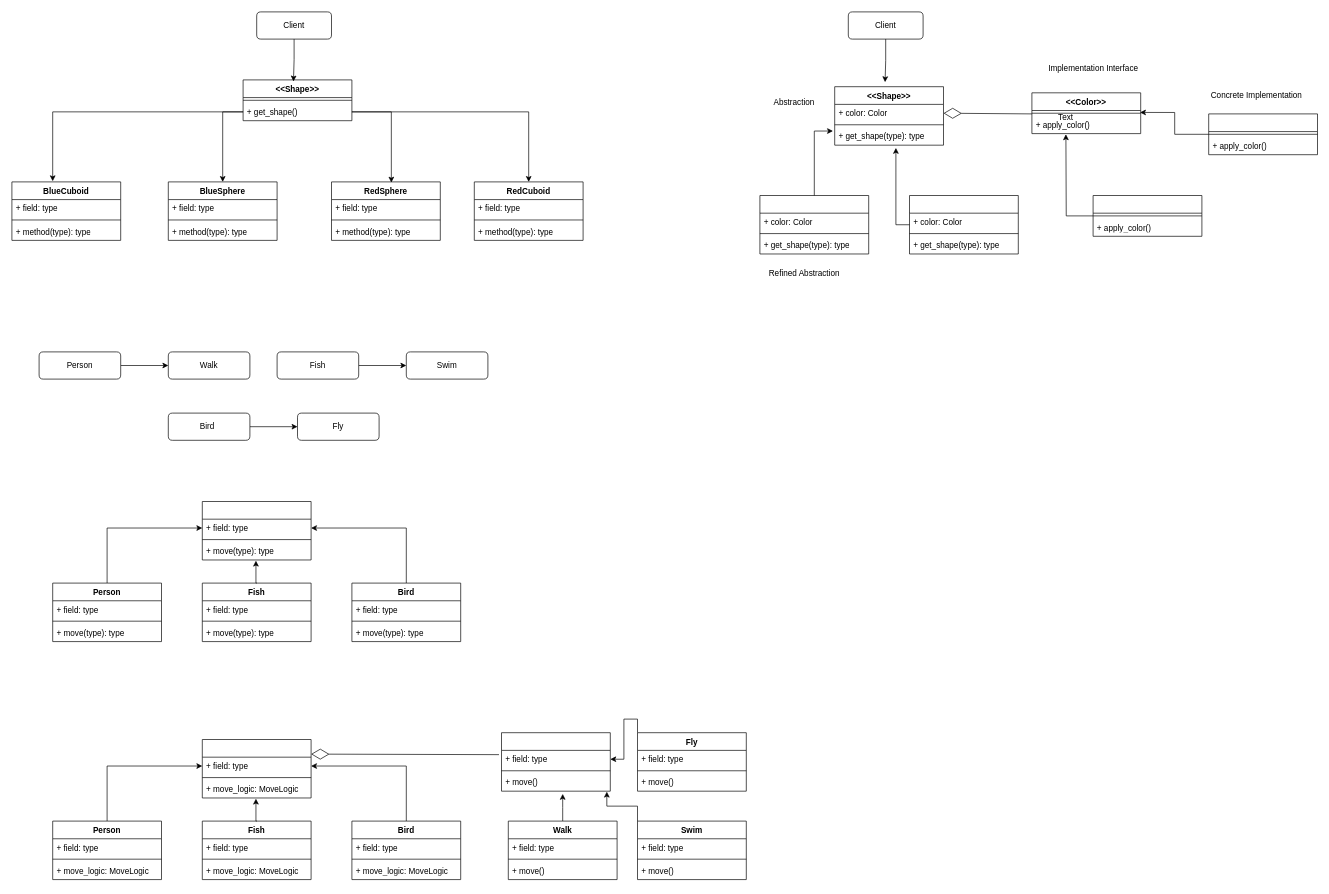
This 1329x894 diagram has some shape labels left out. The shapes that lost their labels are listed below. From the top down, each one's box as (x1, y1, x2, y2) in pixels, then its label:
(1208, 113, 1318, 155): Blue
(759, 195, 869, 254): Cuboid
(909, 195, 1018, 254): Sphere
(1092, 195, 1202, 236): Red
(202, 501, 311, 560): Animal
(202, 739, 311, 798): <<Animal>>
(501, 732, 610, 791): <<MoveLogic>>
